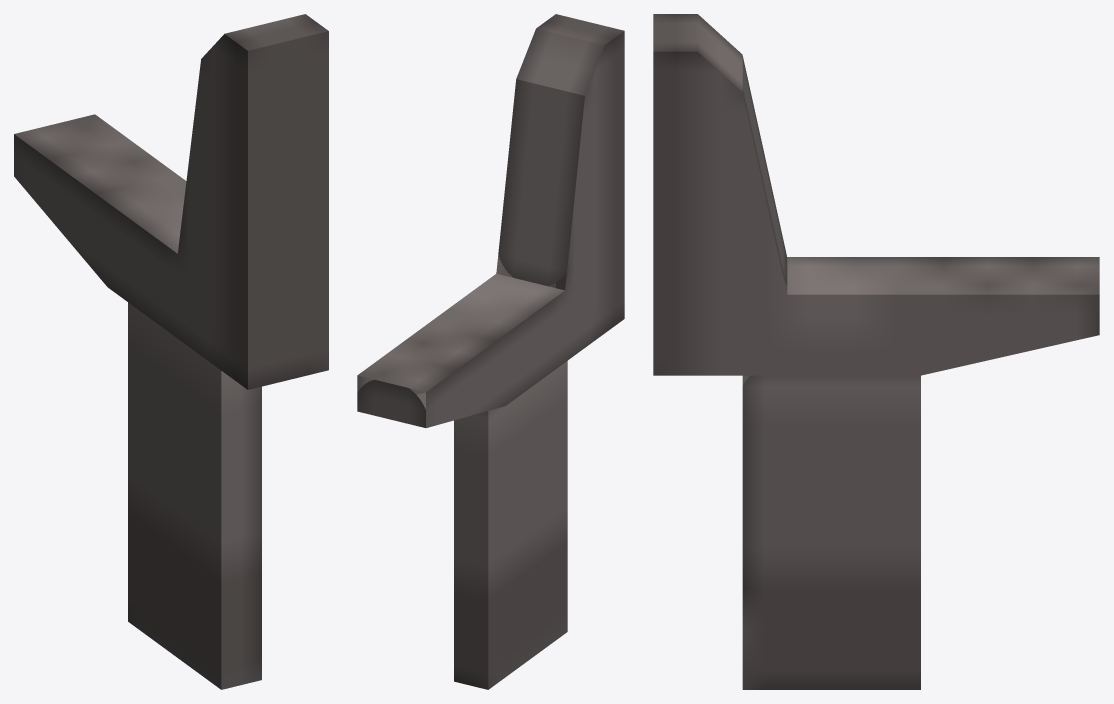
The model's file is revolver_hammer.obj.
The picture shows the model from 3 angles, left to right: view 1: azimuth 30°, elevation 25°; view 2: azimuth 150°, elevation 25°; view 3: azimuth 270°, elevation 25°; orthographic projection. The views are drawn at different scales.
Visible parts, largest first — view 1: Hammer; view 2: Hammer; view 3: Hammer.
Part boxes in pixels (x1,y1,x2,y2): Hammer: (14, 14, 328, 689); Hammer: (357, 14, 624, 689); Hammer: (653, 14, 1099, 689).
Bounding box in the file's own units: 0.25 × 2 × 1.25.
